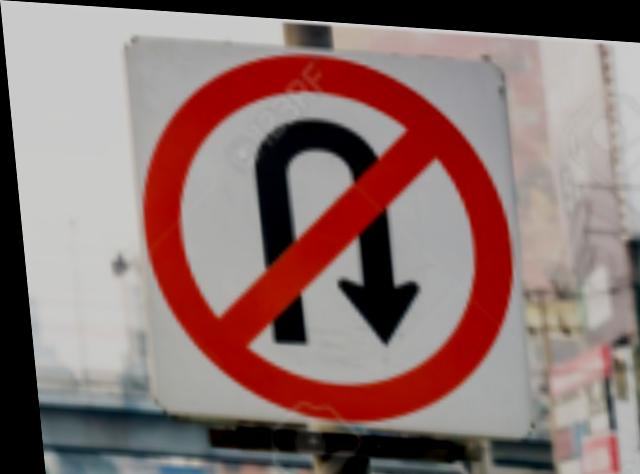not_u_turn_right: (122, 31, 528, 432)
